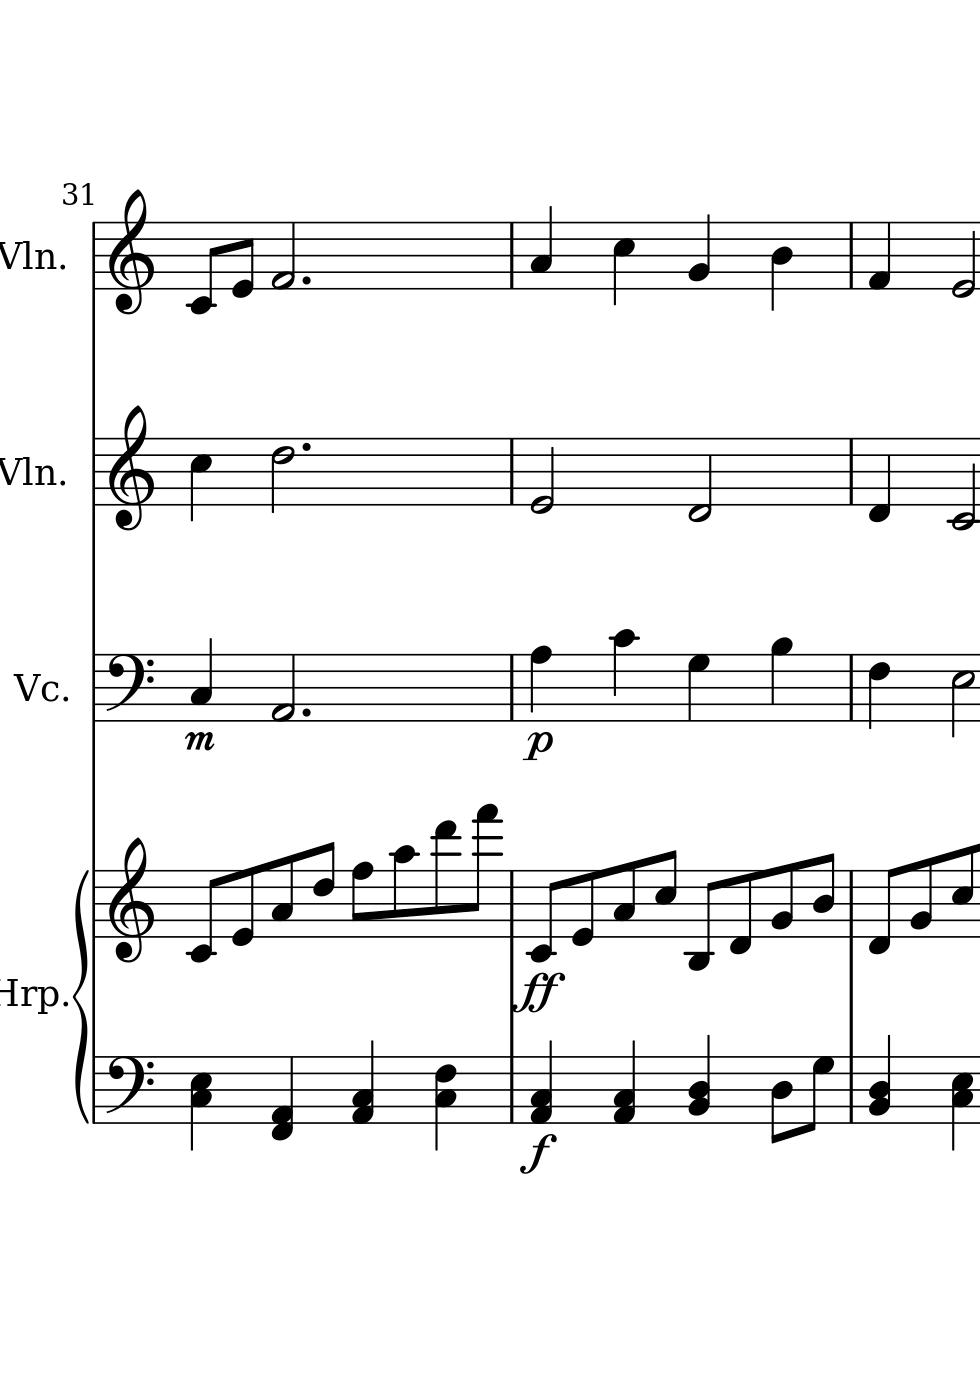1: (80, 180, 94, 209)
2_-1: (686, 436, 713, 523)
2_-2: (946, 435, 978, 532)
2_0: (528, 435, 556, 517), (949, 220, 976, 299)
2_1: (268, 652, 297, 724), (269, 220, 297, 291)
2_5: (949, 653, 975, 738)
2_6: (269, 436, 296, 516)
3: (62, 180, 78, 208)
4_-1: (867, 435, 892, 523)
4_-1_1: (269, 1055, 294, 1141)
4_1: (867, 220, 893, 291)
4_10: (609, 627, 638, 724)
4_1_3: (612, 1041, 638, 1126), (529, 1040, 555, 1125), (351, 1041, 375, 1125)
4_2: (687, 212, 712, 291)
4_2_4: (868, 1033, 892, 1124), (688, 1035, 712, 1126)
4_3: (188, 637, 214, 721), (528, 205, 554, 291)
4_3_5: (189, 1055, 213, 1151), (950, 1054, 973, 1153)
4_3_6: (433, 1053, 458, 1152)
4_4: (768, 220, 793, 312)
4_5: (187, 436, 213, 524), (611, 220, 636, 308)
4_6: (865, 652, 891, 732)
4_7: (684, 652, 713, 723)
4_8: (526, 644, 554, 724)
4_9: (768, 636, 794, 723)
8_-1: (865, 863, 902, 957), (727, 867, 756, 957)
8_-2: (185, 869, 223, 965), (185, 220, 220, 316), (526, 867, 560, 964)
8_-3: (684, 869, 718, 972)
8_0: (229, 864, 256, 947), (570, 867, 596, 948), (230, 220, 255, 299)
8_10: (390, 844, 417, 940)
8_13: (431, 820, 458, 938)
8_15: (469, 804, 500, 940)
8_2: (908, 855, 935, 940), (768, 862, 795, 938)
8_3: (269, 852, 295, 940), (611, 859, 638, 938)
8_4: (766, 1054, 792, 1146), (811, 850, 835, 940)
8_5: (950, 843, 976, 940), (653, 848, 678, 941)
8_6: (310, 841, 335, 941)
8_7: (801, 1054, 836, 1136)
8_8: (349, 860, 374, 940)
Brace: (72, 864, 92, 1119)
Fclef: (103, 653, 155, 724), (102, 1055, 154, 1126)
Gclef: (106, 404, 155, 532), (106, 835, 155, 963), (107, 188, 154, 316)
Hrp: (1, 977, 60, 1014)
Single_barline: (842, 654, 861, 721), (844, 870, 862, 938), (504, 871, 522, 938), (842, 439, 860, 505), (843, 222, 860, 290), (504, 654, 521, 722), (503, 1056, 520, 1124), (843, 1056, 859, 1123), (504, 223, 520, 288), (87, 439, 102, 506), (86, 655, 101, 722), (504, 439, 519, 505), (87, 222, 101, 291), (88, 870, 102, 938), (89, 1056, 102, 1124)
Vc: (10, 669, 62, 702)
Vln: (1, 451, 58, 493), (1, 236, 57, 275)
dot: (298, 273, 312, 287), (298, 440, 312, 454), (298, 705, 312, 719)
f: (514, 1131, 558, 1177)
ff: (513, 969, 565, 1015)
m: (180, 729, 217, 755)
p: (521, 730, 554, 766)
